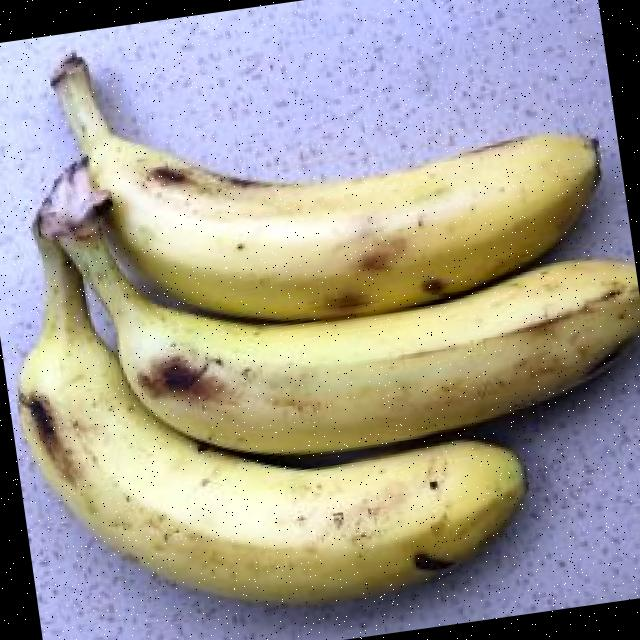banana: (19, 231, 522, 602), (54, 60, 597, 315), (60, 229, 640, 452)
